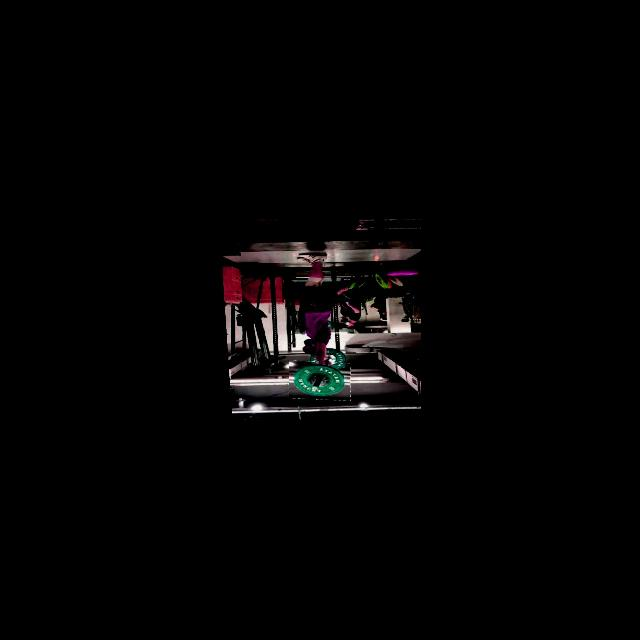barbell: (285, 361, 349, 401)
